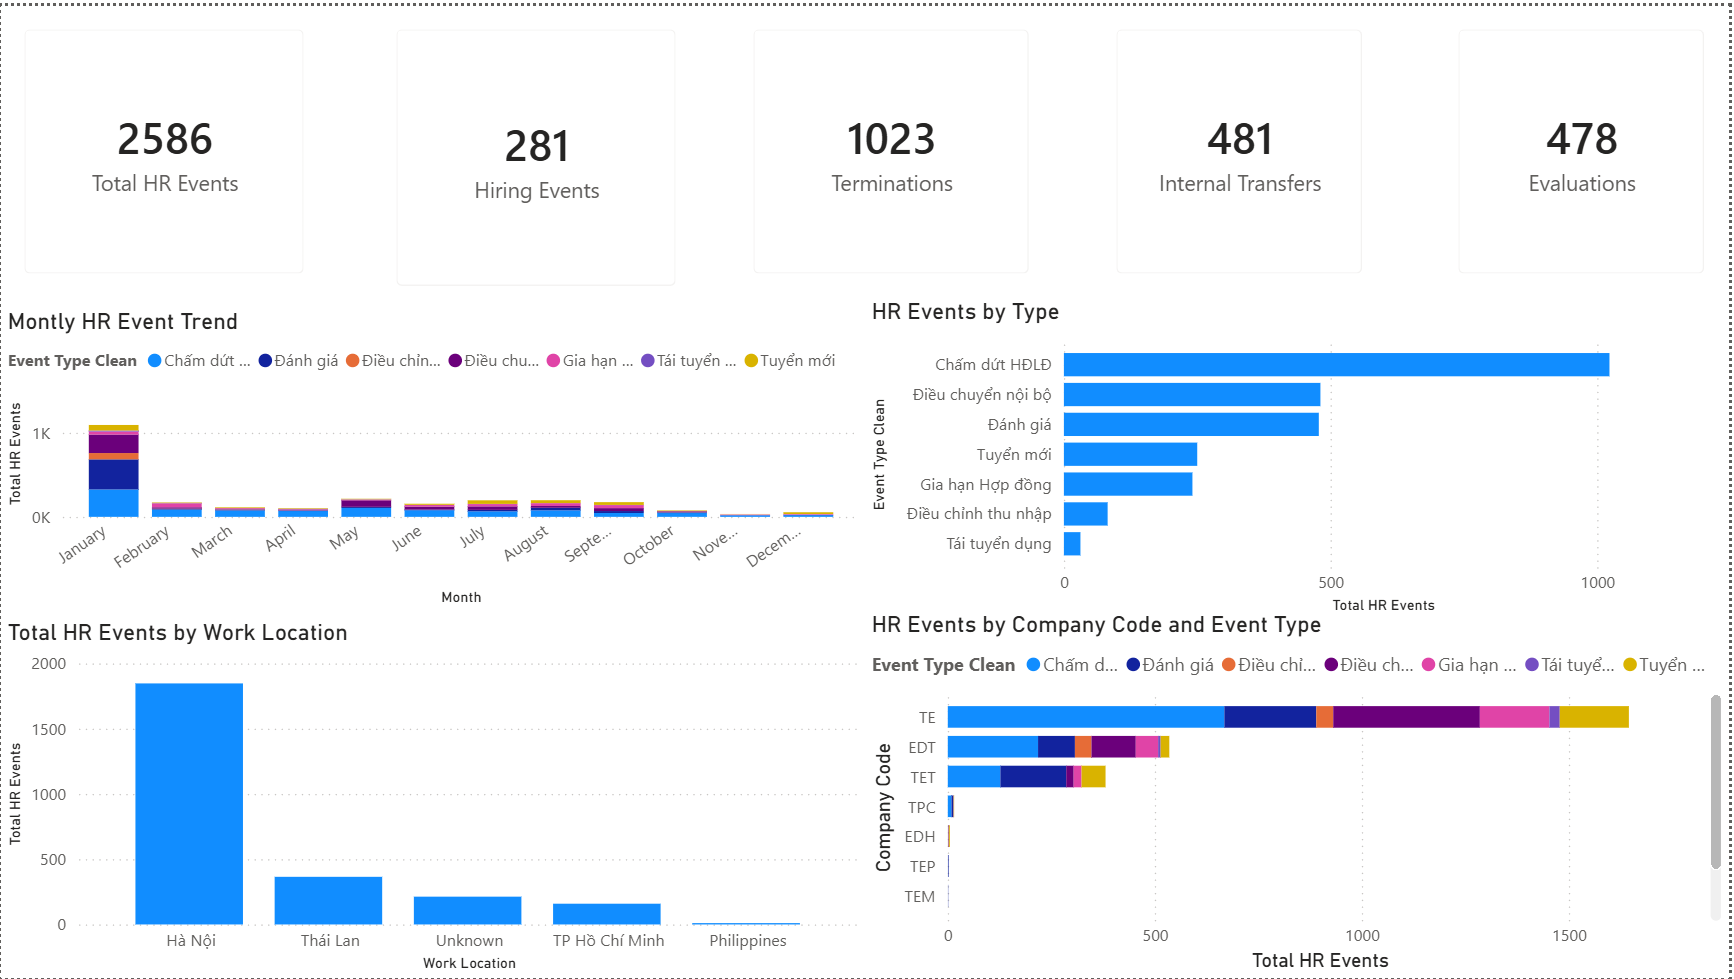

What the dashboard file says about the page in this screenshot:
{"tool":"powerbi","page":{"name":"HR Operations Overview","canvas":[1280,720],"ordinal":0},"visuals":[{"type":"cardVisual","fields":{"Data":["HR_DATA.Total HR Events"]},"box":[0,0,241.7,215.1],"z":1000},{"type":"cardVisual","fields":{"Data":["HR_DATA.Hiring Events"]},"box":[275.7,0,241.3,224],"z":5000},{"type":"cardVisual","fields":{"Data":["HR_DATA.Terminations"]},"box":[540,0,238.4,215.4],"z":6000},{"type":"cardVisual","fields":{"Data":["HR_DATA.Internal Transfers"]},"box":[808.5,0,216.8,215.4],"z":6001},{"type":"cardVisual","fields":{"Data":["HR_DATA.Evaluations"]},"box":[1062.7,0,216.8,215.4],"z":6003},{"type":"clusteredBarChart","title":"HR Events by Type ","fields":{"Category":["HR_DATA.Event Type Clean"],"Y":["HR_DATA.Total HR Events"]},"box":[640.5,215.4,639,238.4],"z":6004},{"type":"columnChart","title":"Montly HR Event Trend","fields":{"Category":["HR_DATA.Event Date.Variation.Date Hierarchy.Month"],"Y":["HR_DATA.Total HR Events"],"Series":["HR_DATA.Event Type Clean"]},"box":[0,223.5,640.4,224.7],"z":6005},{"type":"barChart","title":"HR Events by Company Code and Event Type","fields":{"Category":["HR_DATA.Company Code"],"Y":["HR_DATA.Total HR Events"],"Series":["HR_DATA.Event Type Clean"]},"box":[640.5,448.1,639,271.4],"z":6006},{"type":"clusteredColumnChart","fields":{"Category":["HR_DATA.Work Location"],"Y":["HR_DATA.Total HR Events"]},"box":[0,453.8,640.5,265.7],"z":6007}]}

Visuals, with their boxes in screenshot pixels (x1, y1, x2, y2), scaled from the page's 1280x720 canvas onto the 1734x979 screenshot:
cardVisual - HR_DATA.Total HR Events: [left=0, top=0, right=327, bottom=292]
cardVisual - HR_DATA.Hiring Events: [left=373, top=0, right=700, bottom=305]
cardVisual - HR_DATA.Terminations: [left=732, top=0, right=1054, bottom=293]
cardVisual - HR_DATA.Internal Transfers: [left=1095, top=0, right=1389, bottom=293]
cardVisual - HR_DATA.Evaluations: [left=1440, top=0, right=1733, bottom=293]
"HR Events by Type " clusteredBarChart: [left=868, top=293, right=1733, bottom=617]
"Montly HR Event Trend" columnChart: [left=0, top=304, right=868, bottom=609]
"HR Events by Company Code and Event Type" barChart: [left=868, top=609, right=1733, bottom=978]
clusteredColumnChart - HR_DATA.Work Location x HR_DATA.Total HR Events: [left=0, top=617, right=868, bottom=978]
